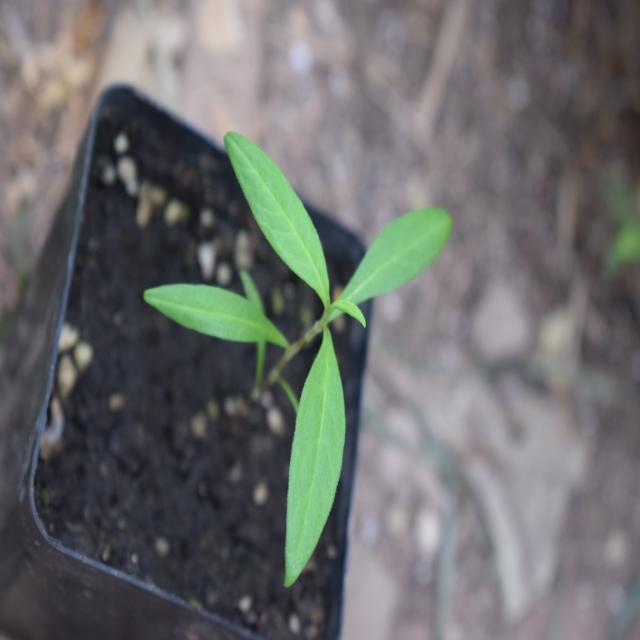white_smart_weed: (160, 94, 457, 612)
